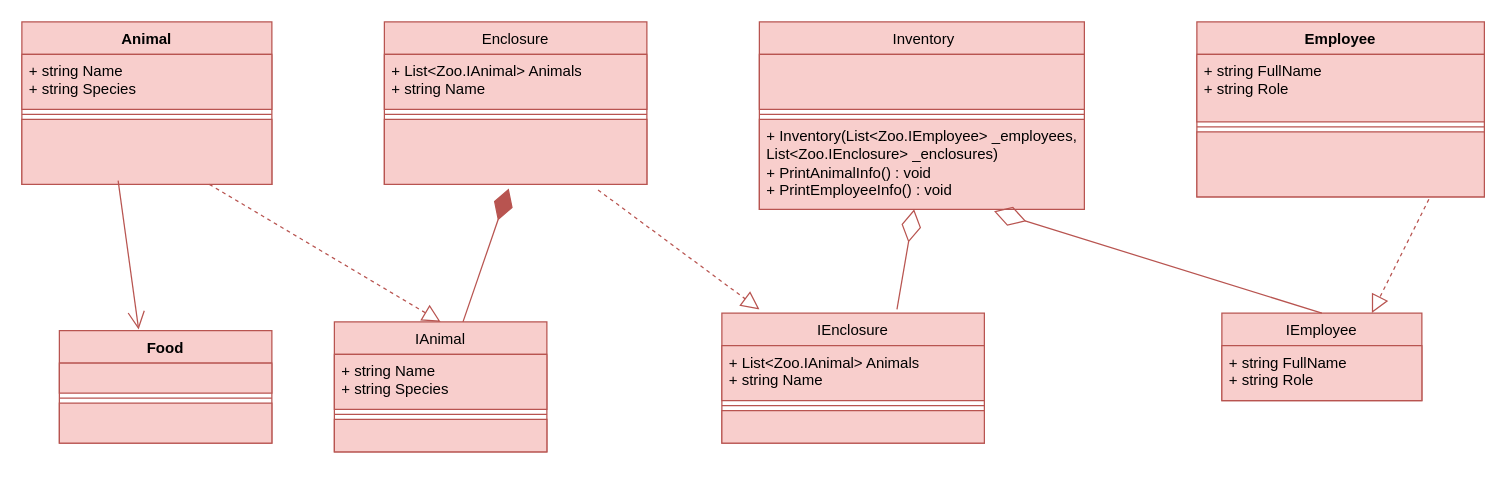
Image size: 1506x478. Some labels were removed from this diagram. Here are the shapes that lost their labels. From the top down, the centre of each, then its label:
point 921,81: - List<Zoo.IEmployee> _employees - List<Zoo.IEnclosure> _enclosures
point 146,151: + Animal(string name, string species ) + Feed(Zoo.Food food) : void
point 515,151: +AddAnimal( Zoo.IAnimal animal) + Enclosure( string name ) : void
point 1340,164: + Employee( string fullName, string r ole )
point 165,377: + string Name
point 165,422: + Food string name
point 440,435: + Feed(Zoo.Food food) : void
point 852,426: + AddAnimal(IAnimal animal): void
